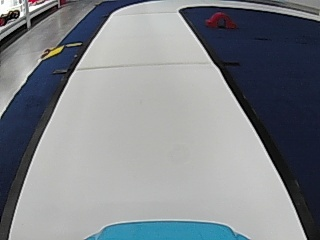bridge: (205, 11, 236, 28)
